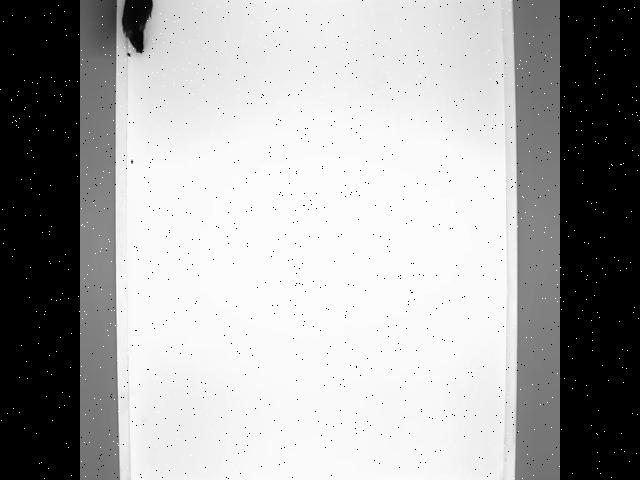Tikus: (120, 0, 202, 63)
